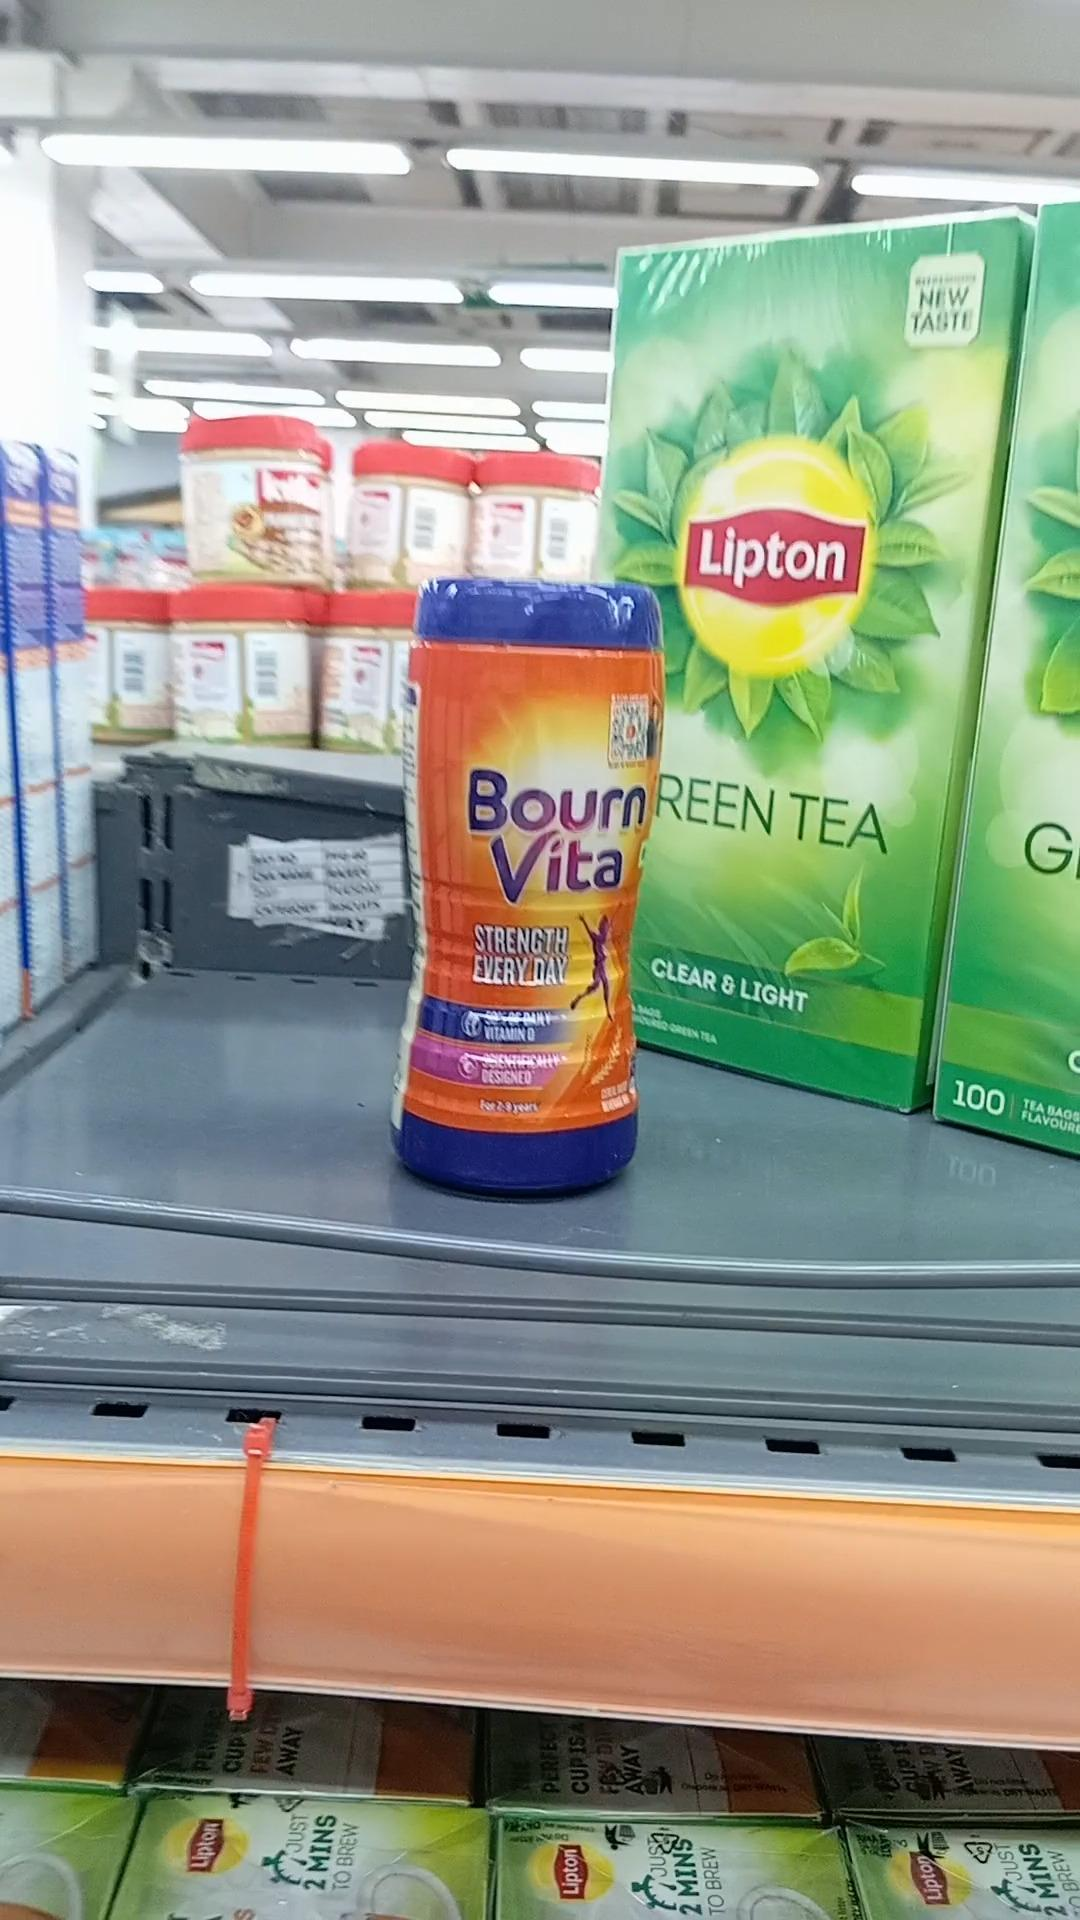BOURN_VITA_200_G_JAR: (400, 566, 649, 1201)
